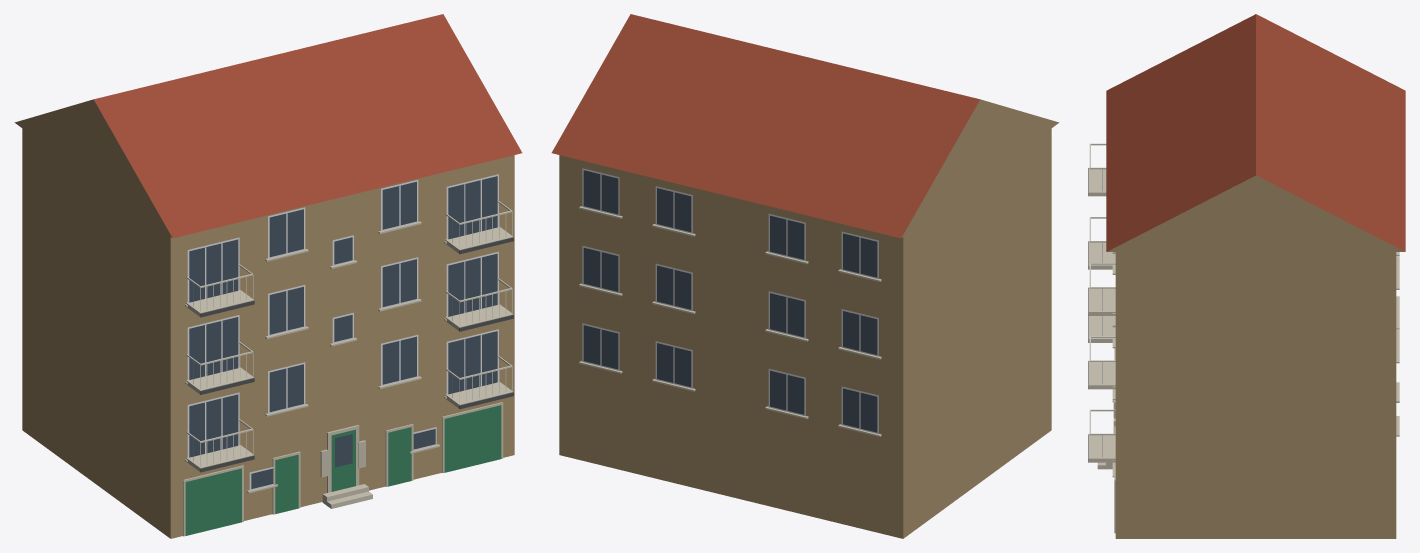
File: nw-portiek-hof-garage-4st__buff-green__4__gable__long__solid.glb
3 views of the same model, side by side, from view 1: azimuth 30°, elevation 25°; view 2: azimuth 150°, elevation 25°; view 3: azimuth 270°, elevation 25° (orthographic). The views are drawn at different scales.
Visible parts, largest first — view 1: nw-portiek-hof-garage-4st__buff-green__4__gable__long__solid; view 2: nw-portiek-hof-garage-4st__buff-green__4__gable__long__solid; view 3: nw-portiek-hof-garage-4st__buff-green__4__gable__long__solid.
Boxes of the visible parts, bbox=[...] form: nw-portiek-hof-garage-4st__buff-green__4__gable__long__solid: bbox=[14, 14, 522, 538]; nw-portiek-hof-garage-4st__buff-green__4__gable__long__solid: bbox=[551, 14, 1059, 538]; nw-portiek-hof-garage-4st__buff-green__4__gable__long__solid: bbox=[1088, 14, 1405, 538].
Bounding box in the file's own units: 14.25 × 15.02 × 11.85.
